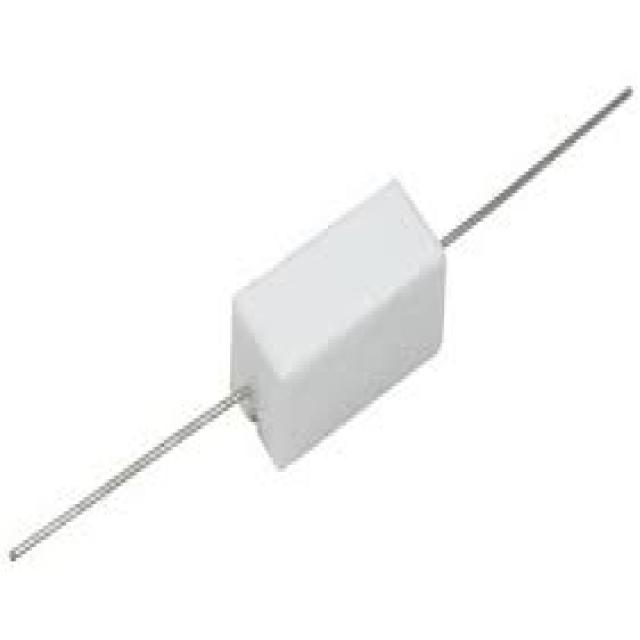Resistor: (227, 175, 450, 470)
